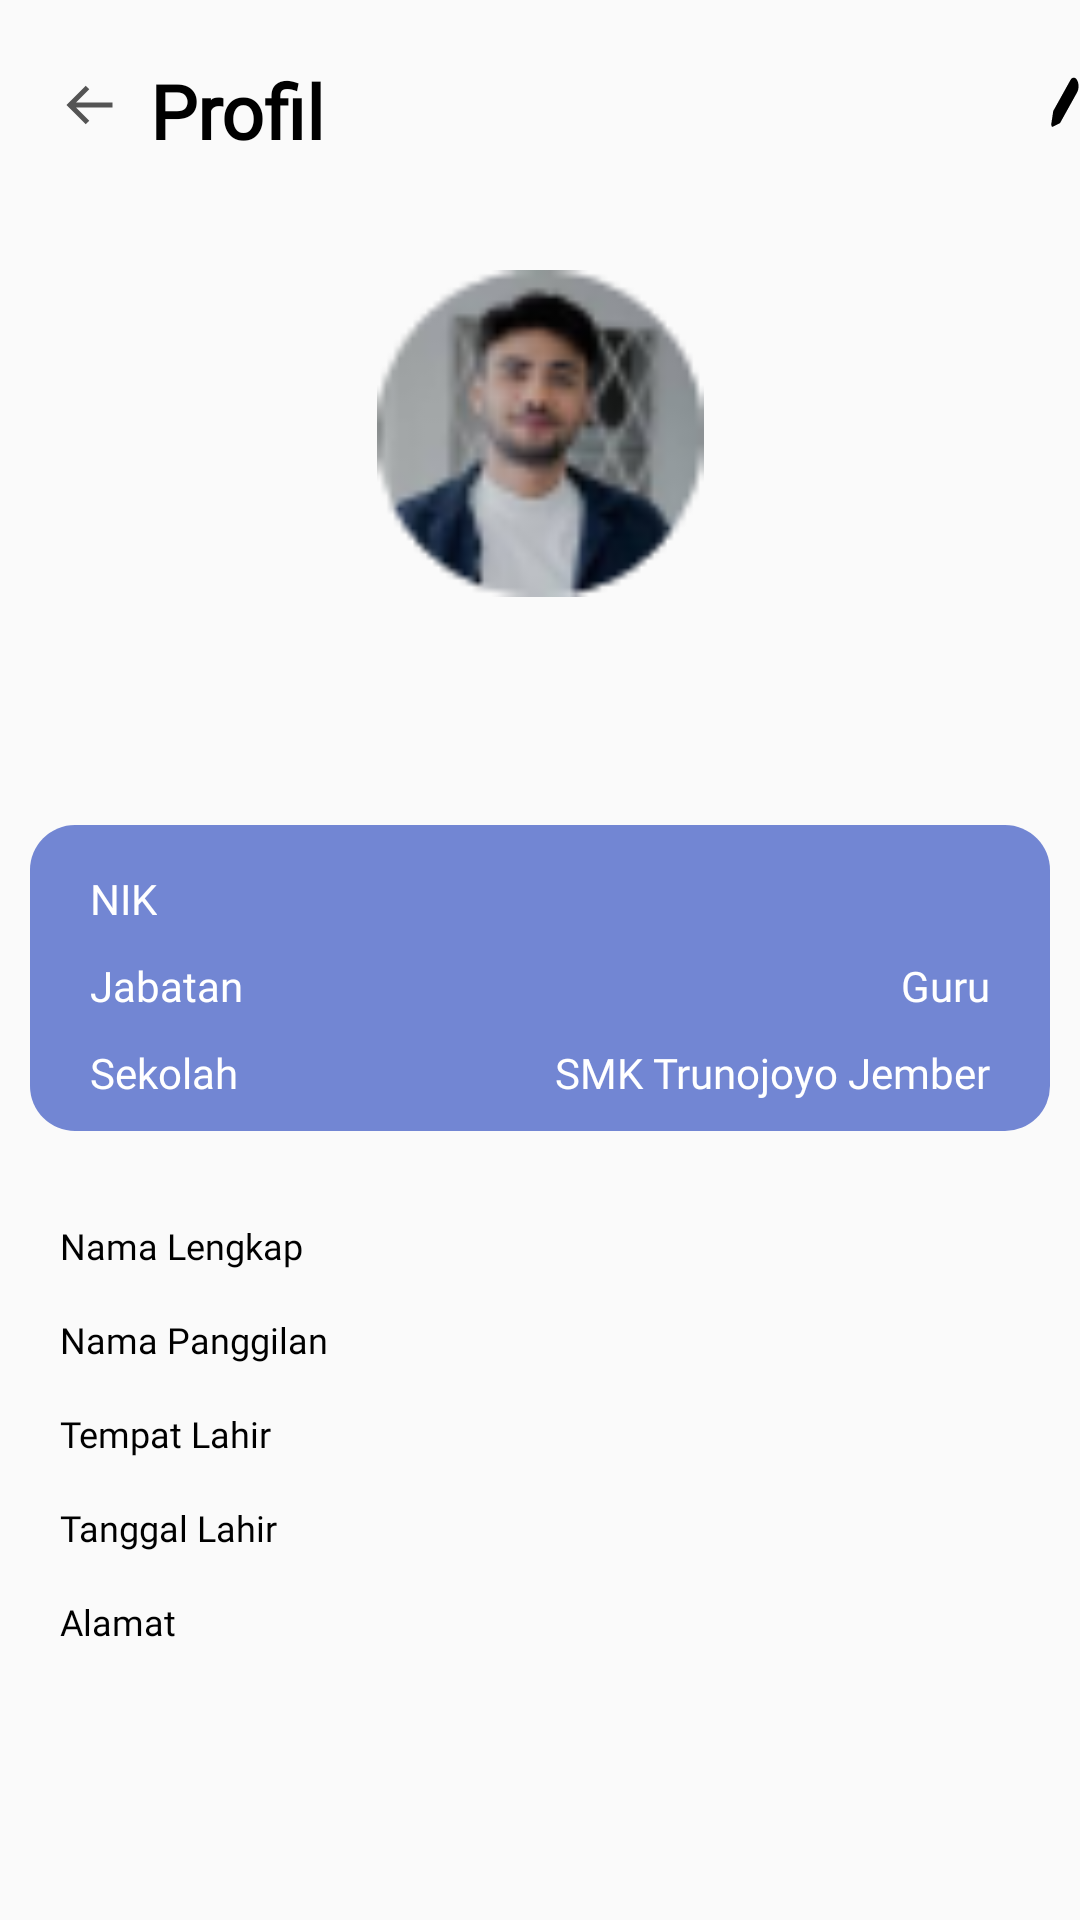

Icon bounding boxes for this 1080w x 1920h phone screenshot, format [left=x1, top=y1, right=x2, bottom=y2]:
arrow back: [left=67, top=86, right=113, bottom=124]
